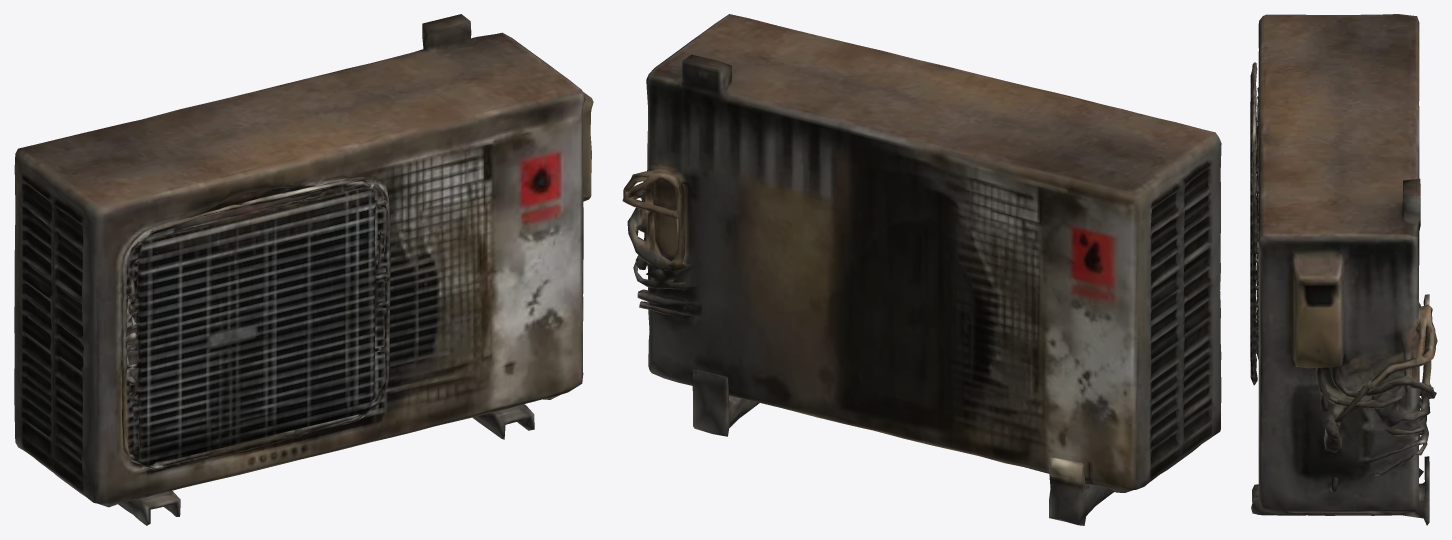
The model's file is air_conditioning_03_-_rusty_proops-opt.glb.
3 renders of one model, left to right at view 1: azimuth 30°, elevation 25°; view 2: azimuth 150°, elevation 25°; view 3: azimuth 270°, elevation 25°, orthographic. The views are drawn at different scales.
Parts seen in each view (by area): view 1: Mesh1_Material_0.001_0; view 2: Mesh1_Material_0.001_0; view 3: Mesh1_Material_0.001_0.
Part boxes in pixels (bbox=[...]): Mesh1_Material_0.001_0: bbox=[14, 14, 593, 525]; Mesh1_Material_0.001_0: bbox=[622, 14, 1221, 525]; Mesh1_Material_0.001_0: bbox=[1250, 14, 1437, 525].
Size of the model in its own units: 2.01 by 1.31 by 0.6549.
1 material, 1 textured.
